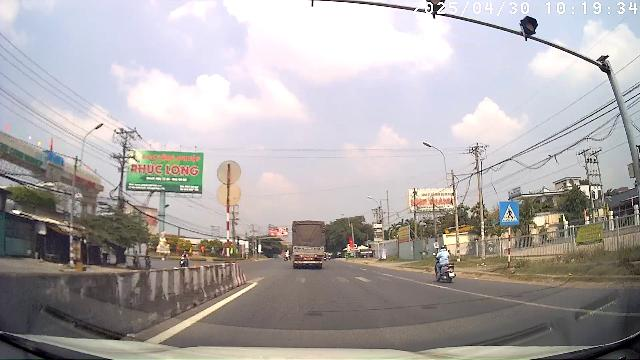423a-duong-nguoi-di-bo-sang-ngang-1: (501, 202, 519, 224)
